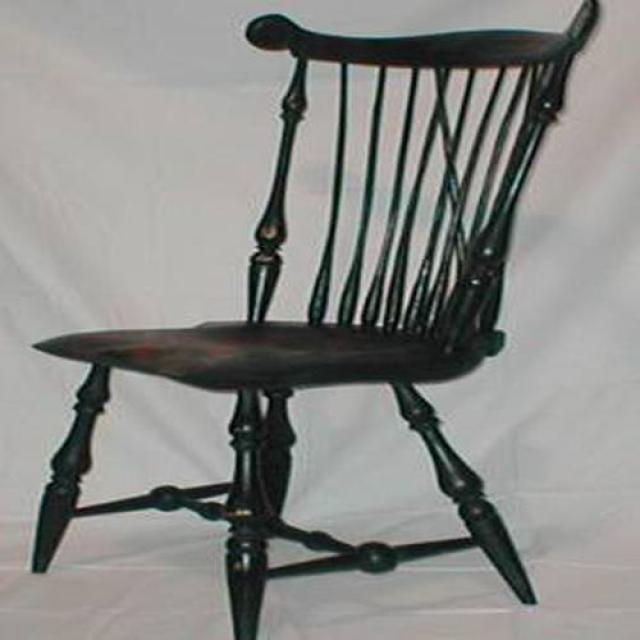chair: (28, 0, 604, 640)
